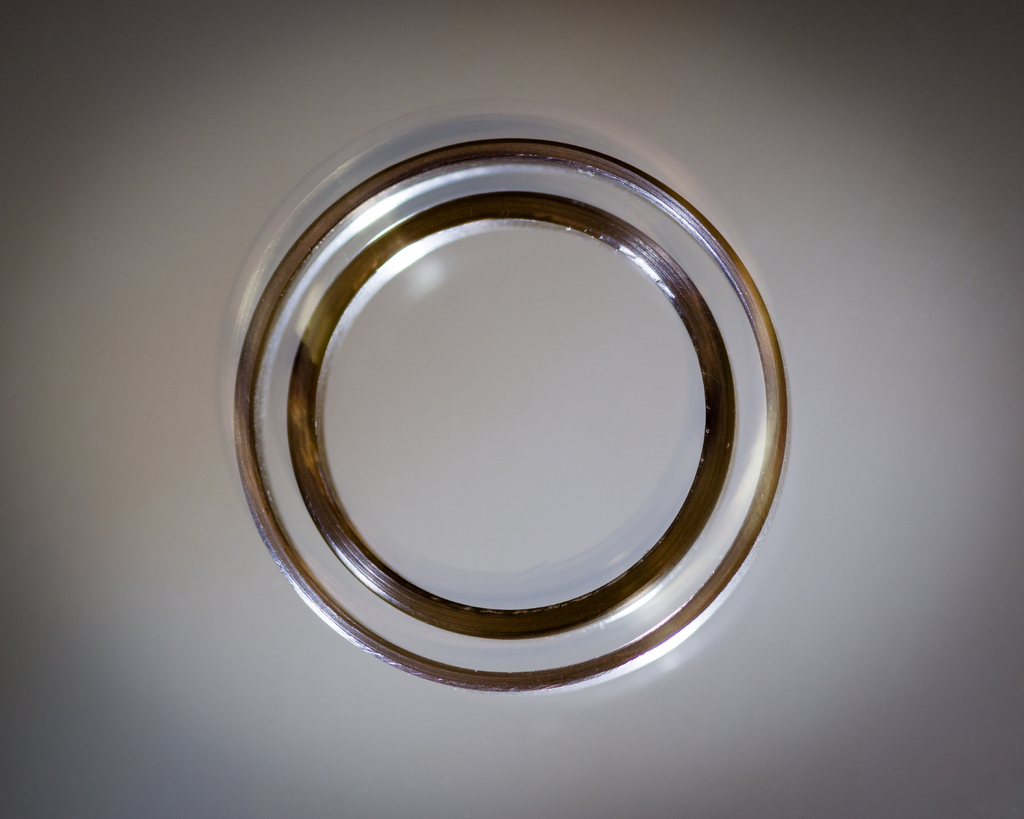plate: (232, 168, 771, 664)
